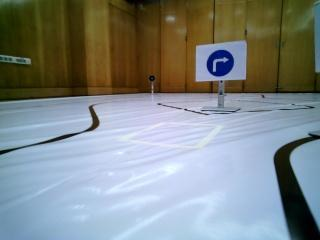right: (194, 45, 247, 78)
